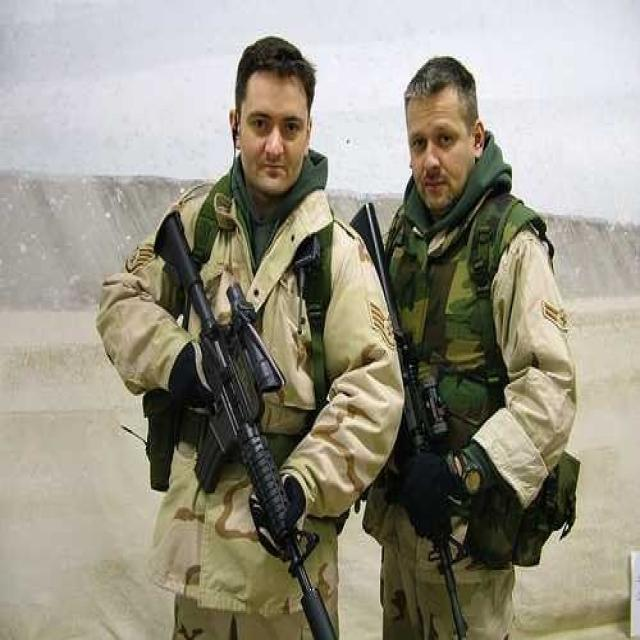RifleTel: (145, 186, 345, 638), (345, 186, 474, 640)
